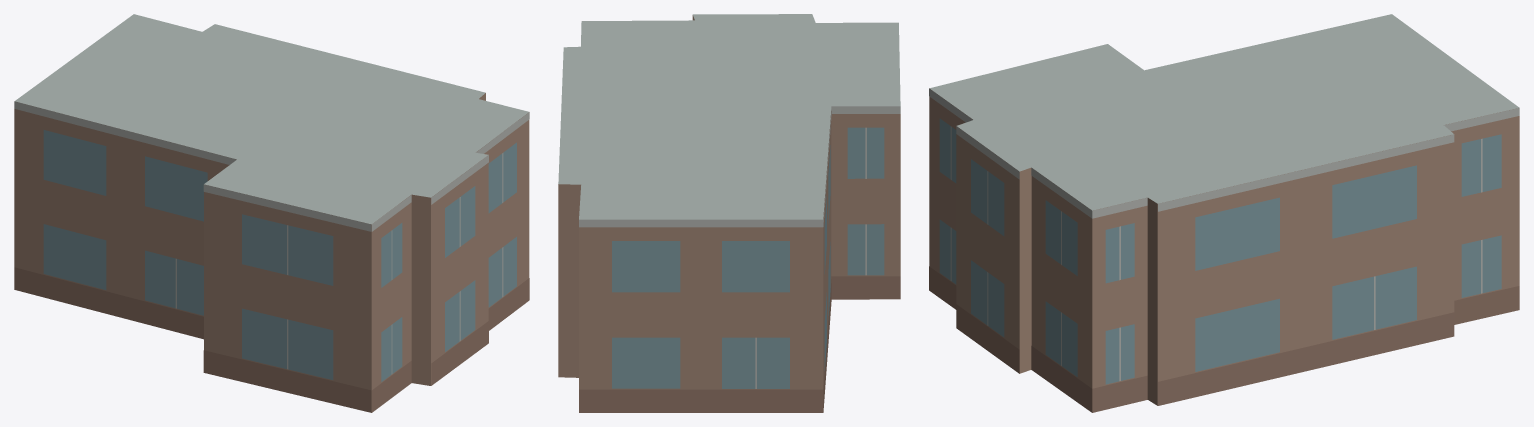
Rendered from survey-upis-32695345.glb.
The picture shows the model from 3 angles, left to right: view 1: azimuth 30°, elevation 25°; view 2: azimuth 150°, elevation 25°; view 3: azimuth 270°, elevation 25°; orthographic projection. The views are drawn at different scales.
Parts seen in each view (by area): view 1: survey-upis-32695345.tmp; view 2: survey-upis-32695345.tmp; view 3: survey-upis-32695345.tmp.
Boxes of the visible parts, x1=… form: survey-upis-32695345.tmp: x1=14, y1=14, x2=529, y2=412; survey-upis-32695345.tmp: x1=558, y1=14, x2=900, y2=412; survey-upis-32695345.tmp: x1=929, y1=14, x2=1519, y2=412.
Bounding box in the file's own units: 12.73 × 6.1 × 16.15.
